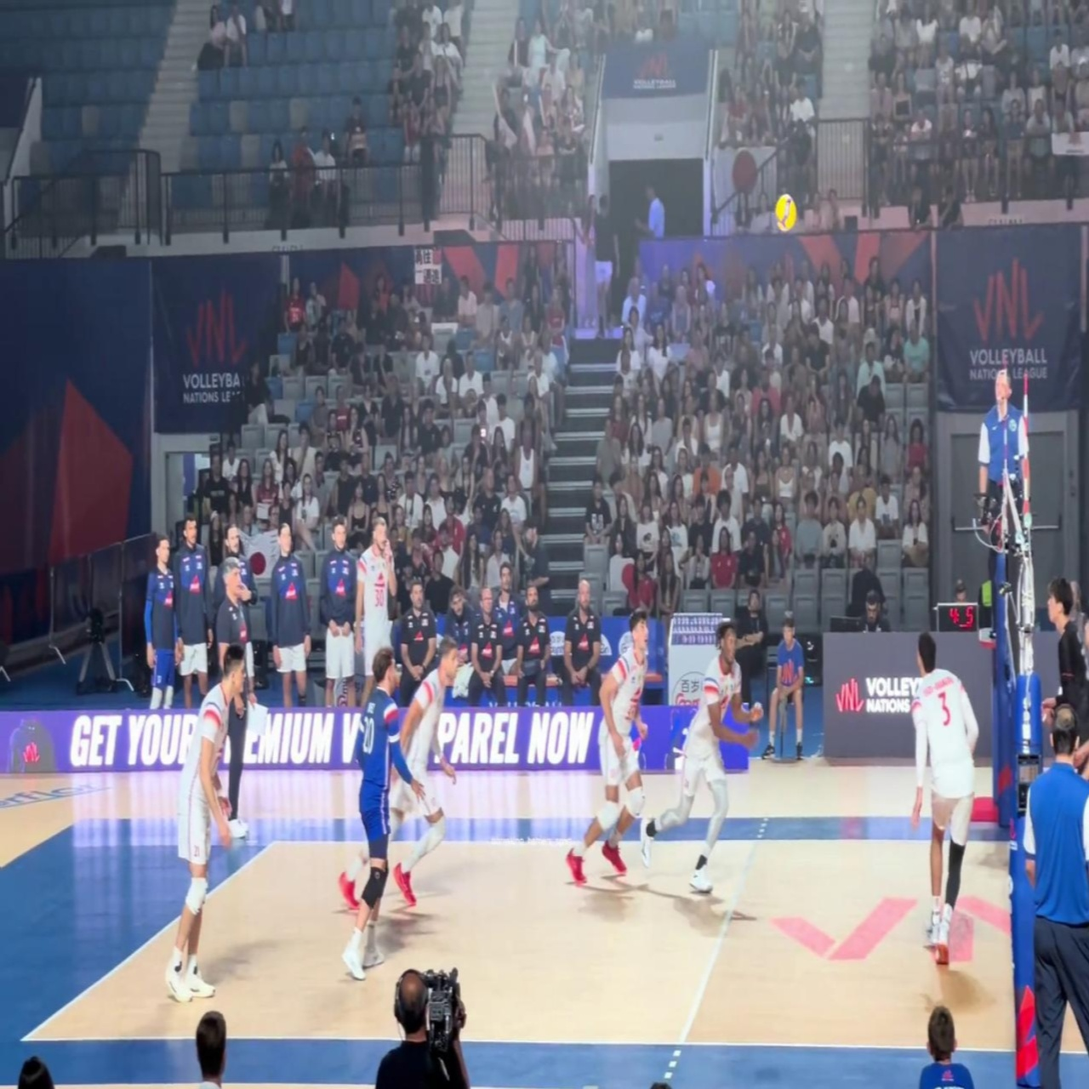ball: (775, 195, 796, 231)
